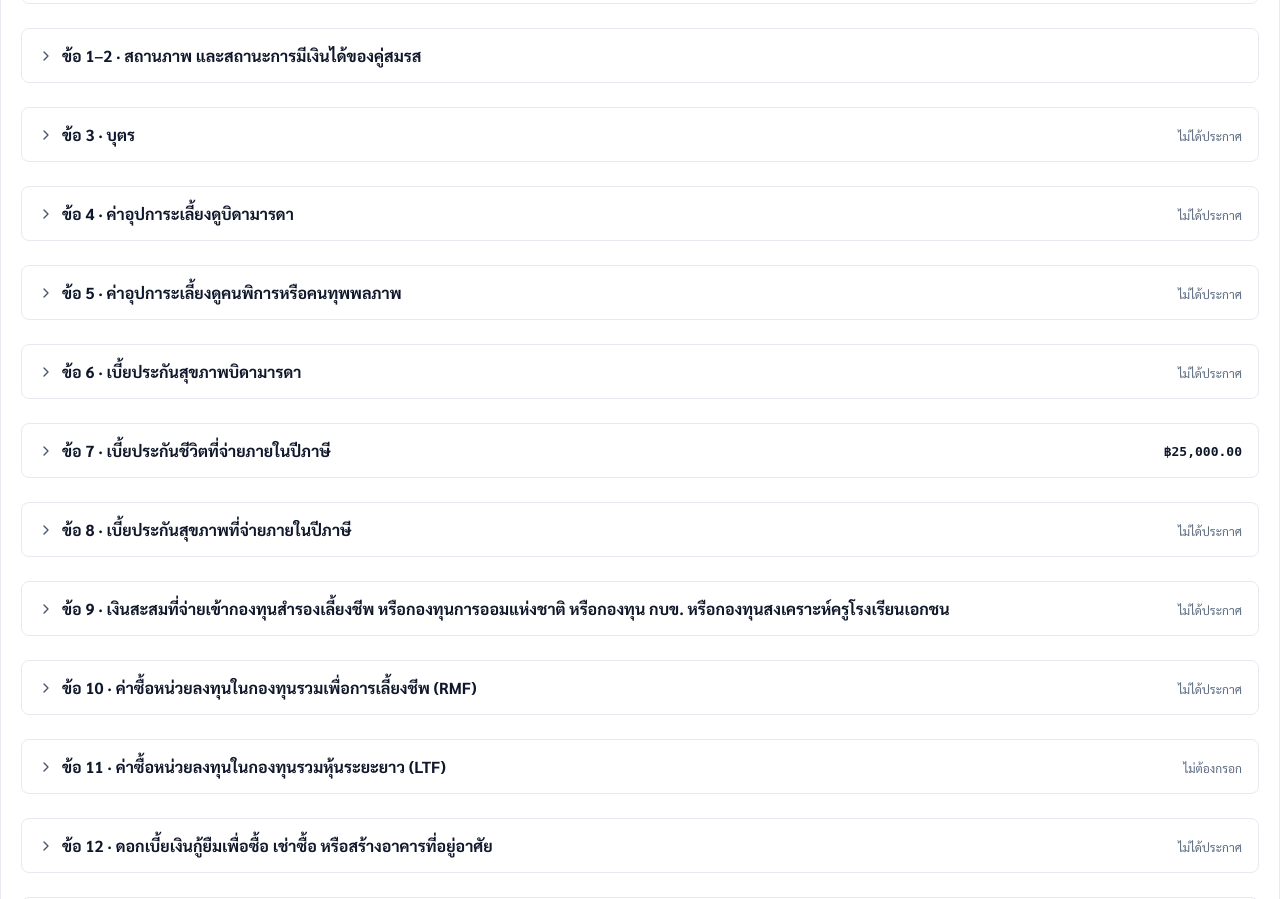
it: TaxAllowancePage › withdrawal preserves values for resume (#387 regression) › pre-fills the form from the most recently withdrawn declaration when there is no current one
(page scrolled)
Expected: the text "฿25,000.00" is shown, [1164,444,1242,459]
Click the button "ข้อ 7 · เบี้ยประกันชีวิตที่จ่ายภายในปีภาษี": (196, 450) [22,424,1152,477]
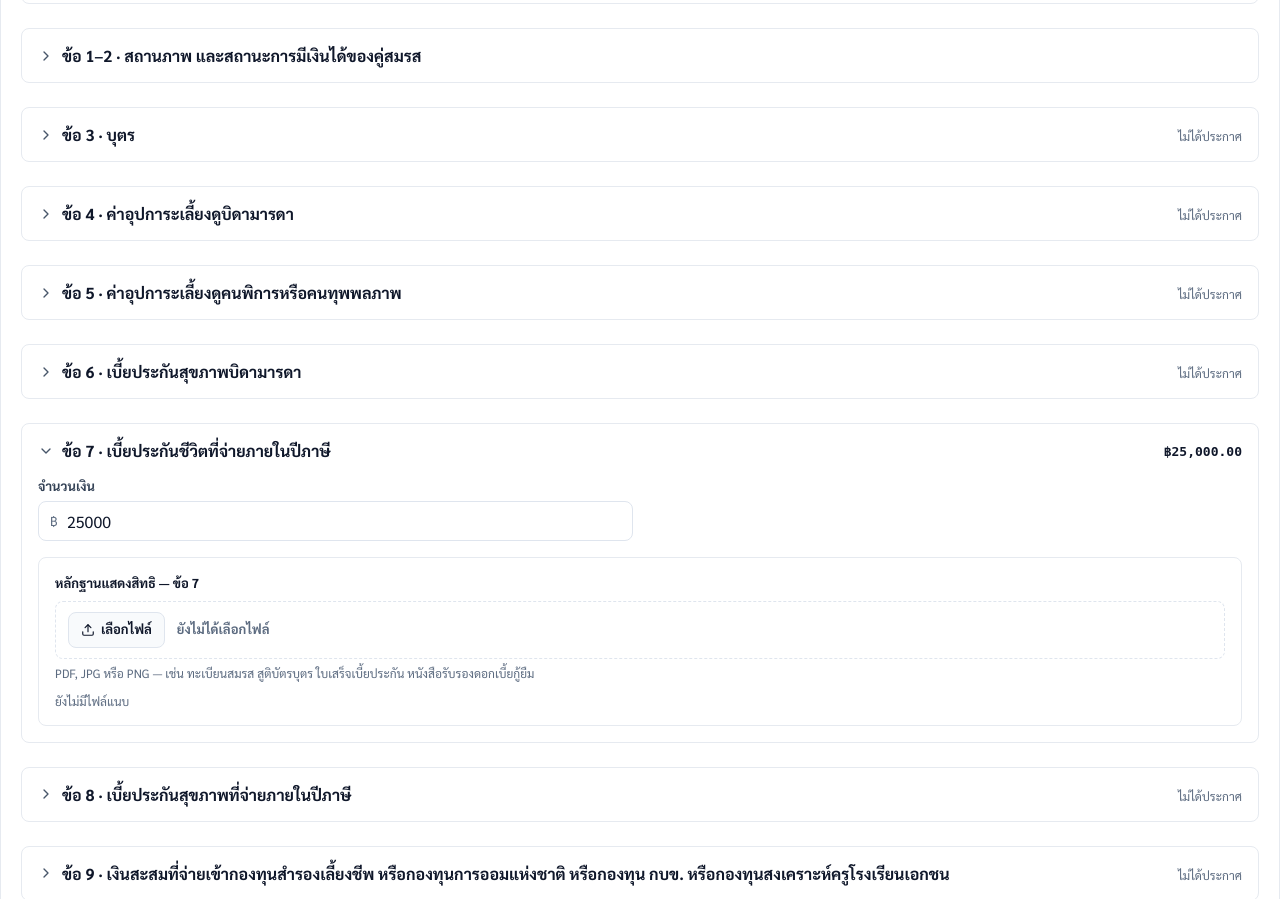
Now the number field labelled "จำนวนเงิน" holds "25000", box [38,501,633,541]
